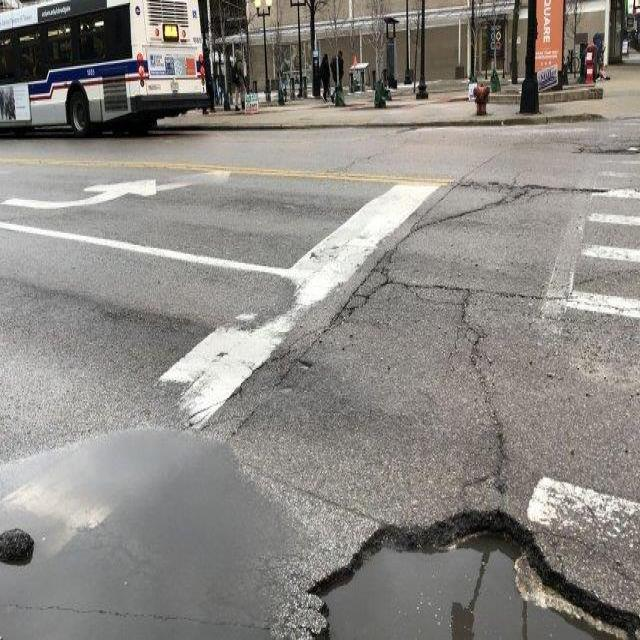jalan retak: (443, 271, 520, 496), (187, 331, 331, 428), (22, 278, 200, 338), (366, 262, 542, 317), (244, 456, 380, 524), (449, 167, 618, 206), (327, 238, 396, 329), (404, 175, 504, 236), (222, 193, 356, 225), (556, 261, 640, 308), (560, 129, 640, 158), (330, 145, 400, 170)
lubang: (299, 506, 626, 638)
